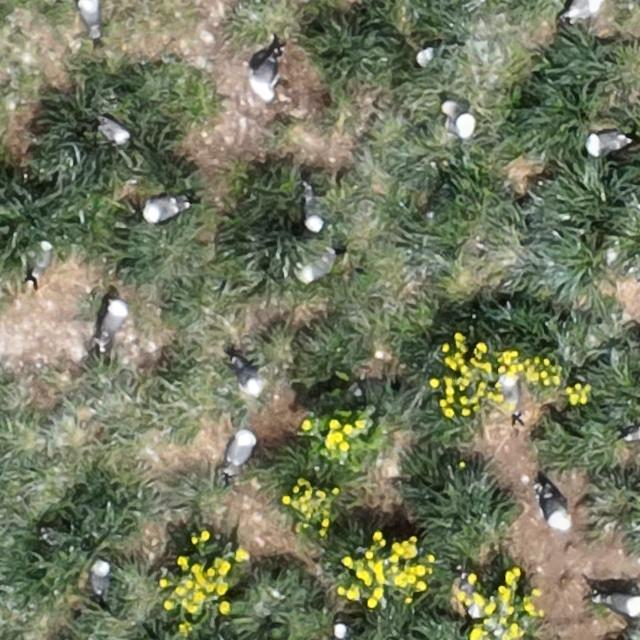umineko: (227, 430, 254, 468), (102, 300, 127, 339), (253, 56, 277, 94), (145, 197, 184, 220), (234, 362, 261, 393), (544, 493, 568, 527), (586, 132, 622, 154), (300, 256, 333, 280), (601, 592, 640, 612), (32, 244, 54, 279), (101, 118, 130, 144), (566, 1, 602, 20), (303, 192, 321, 230), (81, 0, 101, 34), (90, 562, 109, 595), (451, 113, 471, 140), (418, 44, 440, 62), (624, 423, 639, 441), (334, 622, 349, 639)
